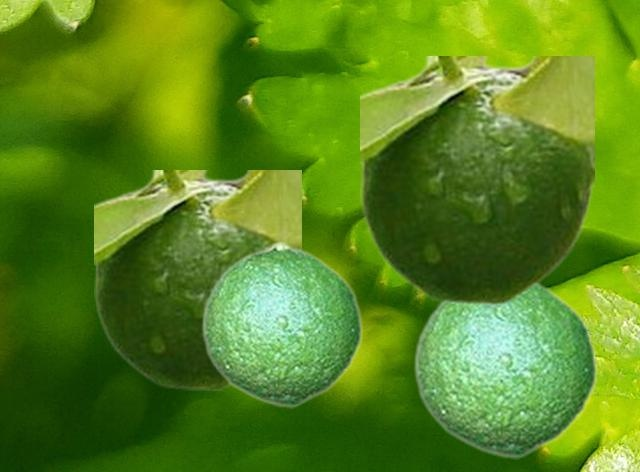dalandan: (360, 56, 593, 304), (94, 170, 300, 389), (412, 281, 597, 458), (200, 240, 362, 407)
